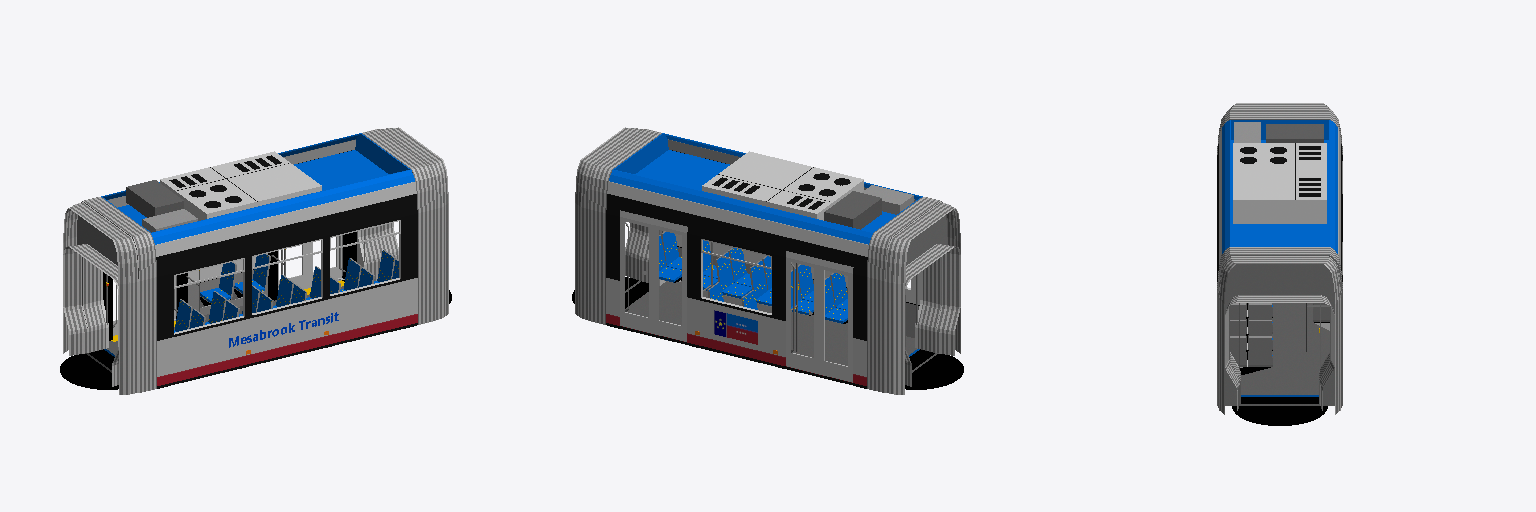
3 renders of one model, left to right at view 1: azimuth 30°, elevation 25°; view 2: azimuth 150°, elevation 25°; view 3: azimuth 270°, elevation 25°, orthographic.
Visible parts, largest first — view 1: SHELL, GAR, SHELL_6, GAR_INTERIOR, SEATS_INTERIOR, SHELL_INTERIOR, SHELL_7, RING_INTERIOR, SHELL_2_INTERIOR; view 2: SHELL, GAR, SHELL_6, GAR_INTERIOR, SHELL_INTERIOR, SEATS_INTERIOR, SHELL_7, RING_INTERIOR, EXTERNAL_DOOR_4_CG_ELECTRON_GLOBAL, EXTERNAL_DOOR_1_CG_ELECTRON_GLOBAL, EXTERNAL_DOOR_2_CG_ELECTRON_GLOBAL, EXTERNAL_DOOR_3_CG_ELECTRON_GLOBAL (+1 smaller); view 3: GAR, SHELL_6, SHELL, SHELL_INTERIOR, SEATS_INTERIOR, RING_INTERIOR, GAR_INTERIOR, SHELL_7.
Part boxes in pixels (x1,y1,x2,y2): SHELL: (101,133,417,388); GAR: (63,127,448,394); SHELL_6: (160,151,321,220); GAR_INTERIOR: (63,223,398,386); SEATS_INTERIOR: (175,250,398,331); SHELL_INTERIOR: (109,231,400,352); SHELL_7: (126,180,197,232); RING_INTERIOR: (60,290,451,389); SHELL_2_INTERIOR: (103,232,356,340); SHELL: (606,133,922,388); GAR: (575,127,960,394); SHELL_6: (702,151,863,220); GAR_INTERIOR: (625,223,960,386); SHELL_INTERIOR: (627,234,920,365); SEATS_INTERIOR: (648,231,847,323); SHELL_7: (824,185,913,229); RING_INTERIOR: (572,277,963,389); EXTERNAL_DOOR_4_CG_ELECTRON_GLOBAL: (620,210,653,333); EXTERNAL_DOOR_1_CG_ELECTRON_GLOBAL: (819,259,853,382); EXTERNAL_DOOR_2_CG_ELECTRON_GLOBAL: (786,251,819,373); EXTERNAL_DOOR_3_CG_ELECTRON_GLOBAL: (654,219,687,341); GAR: (1217,103,1342,414); SHELL_6: (1233,143,1326,223); SHELL: (1217,120,1342,396); SHELL_INTERIOR: (1241,303,1329,392); SEATS_INTERIOR: (1230,303,1329,366); RING_INTERIOR: (1232,397,1327,425); GAR_INTERIOR: (1225,295,1334,410); SHELL_7: (1234,122,1323,142).
Bounding box in the file's own units: 8.31 × 3.31 × 2.4.
Materials: 6 (4 with a texture image).